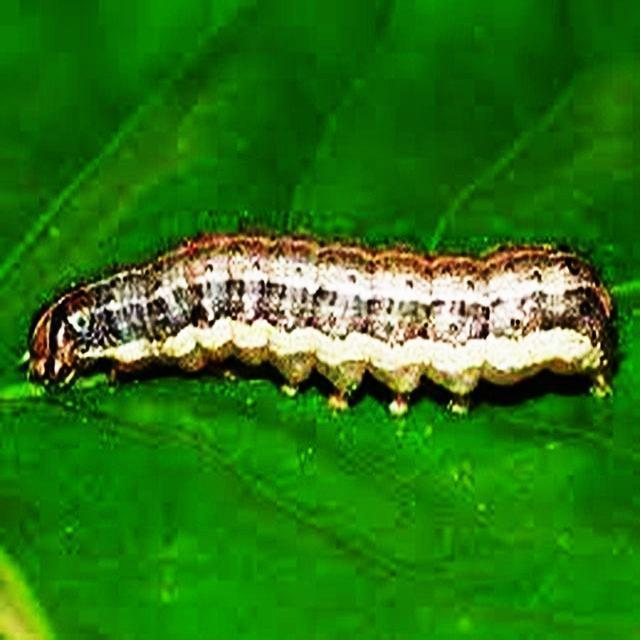gusano_cogollero: (30, 224, 623, 404)
